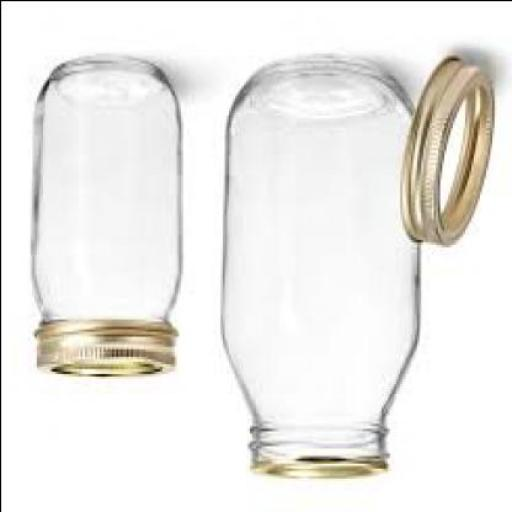glass: (224, 56, 420, 478), (33, 57, 182, 338)
metal: (404, 54, 494, 249), (35, 318, 178, 380)
